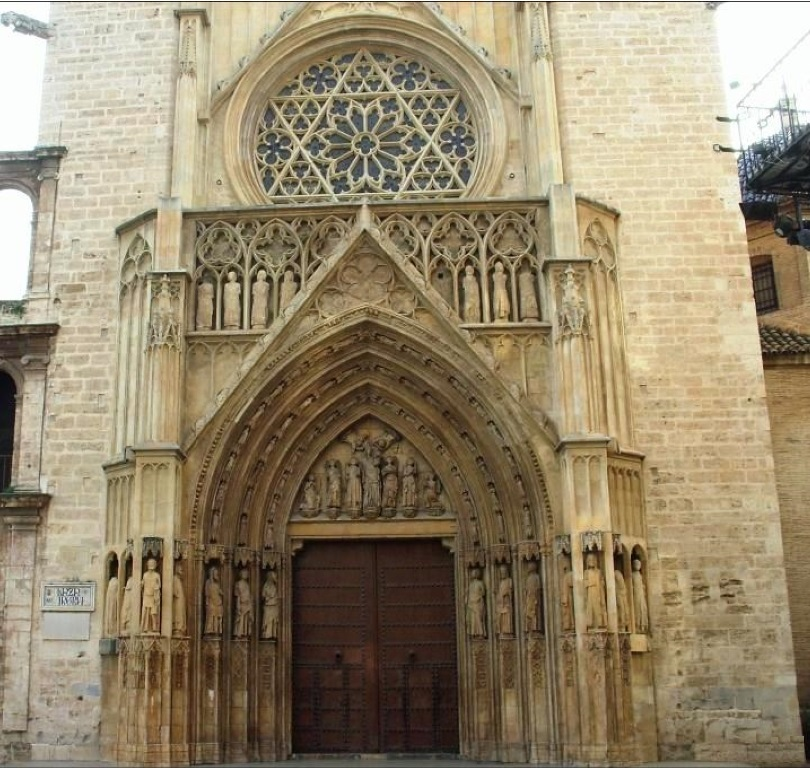arco-apuntado: (192, 301, 554, 526)
